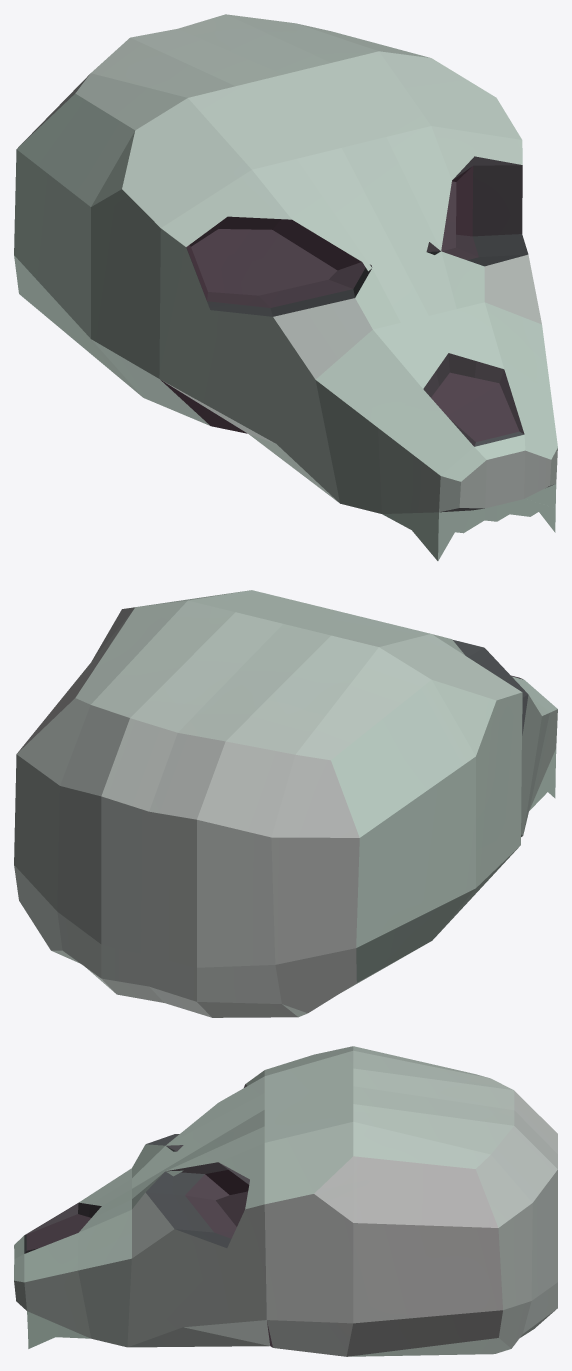
Rendered from Prop_Bone_Skull.fbx.
3 renders of one model, top to bottom at view 1: azimuth 30°, elevation 25°; view 2: azimuth 150°, elevation 25°; view 3: azimuth 270°, elevation 25°, orthographic. The views are drawn at different scales.
Visible parts, largest first — view 1: Cube.037; view 2: Cube.037; view 3: Cube.037.
Boxes of the visible parts, x1,y1,x2,y2 form: Cube.037: [14, 14, 557, 560]; Cube.037: [14, 590, 557, 1017]; Cube.037: [14, 1046, 557, 1356].
Bounding box in the file's own units: 22.76 × 17.89 × 36.57.
